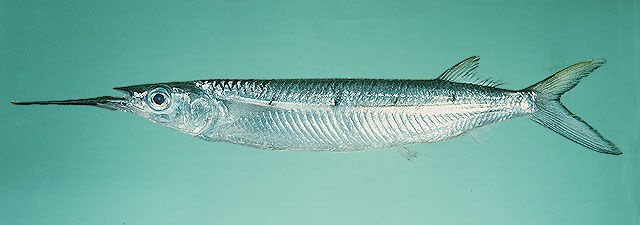fish: (10, 53, 624, 162)
